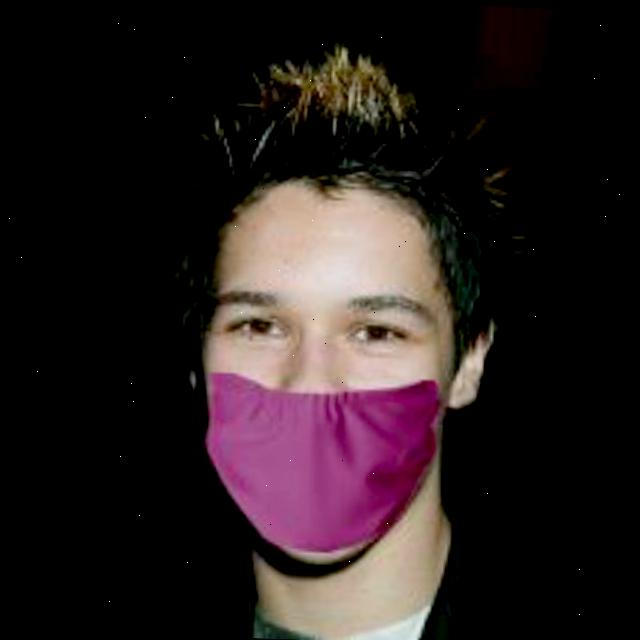suspicion: (164, 159, 467, 553)
